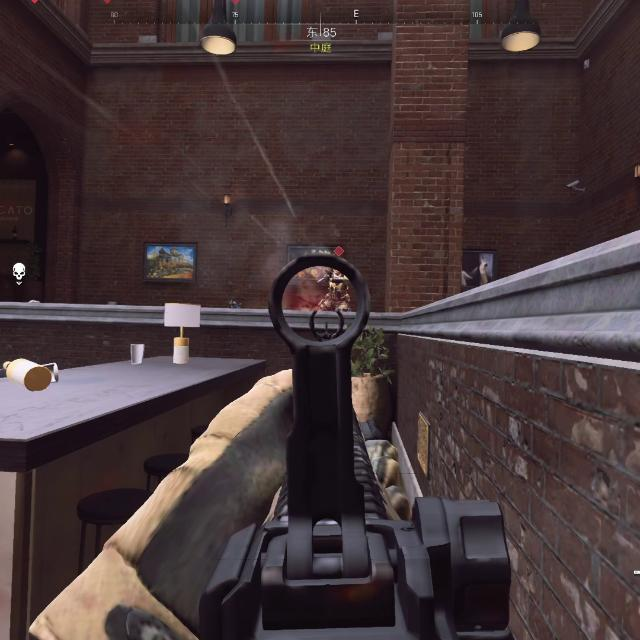MW2_body: (317, 248, 353, 312)
